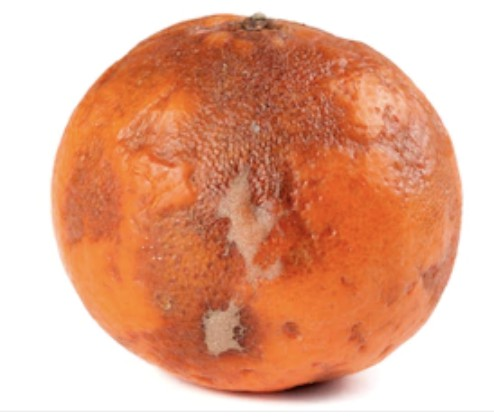rotten_orange: (53, 14, 463, 392)
